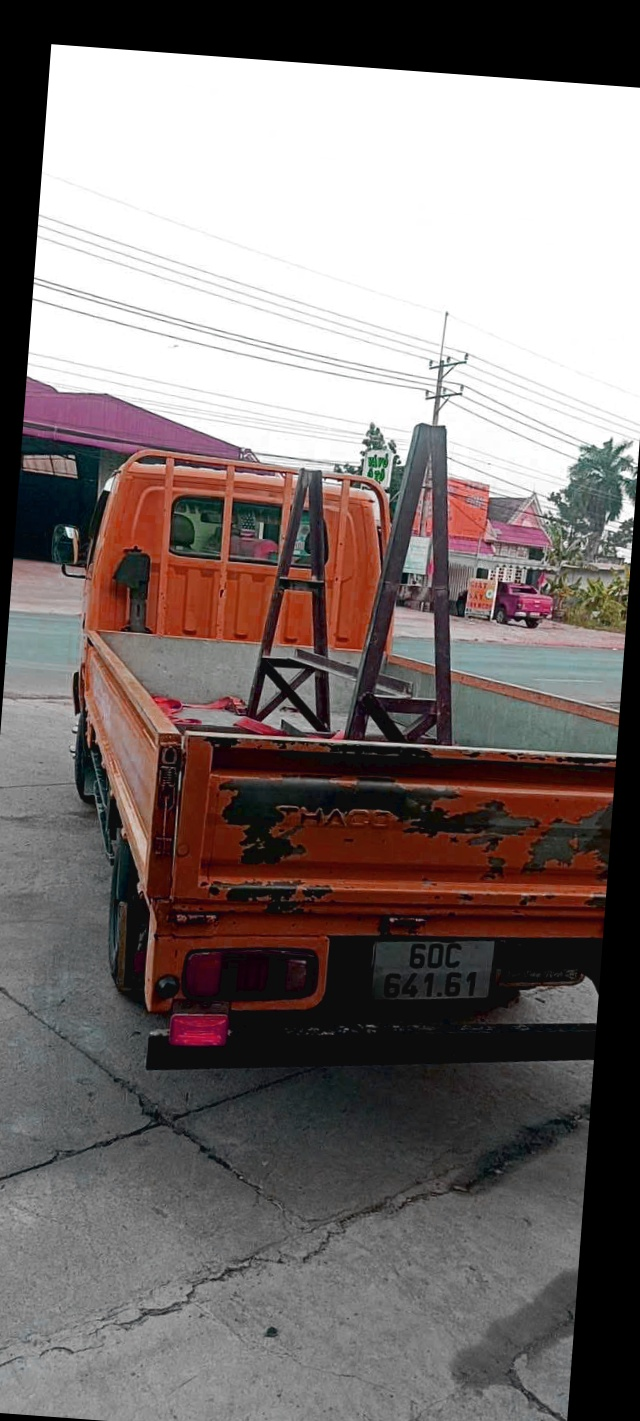Bien-so: (375, 866, 560, 971)
